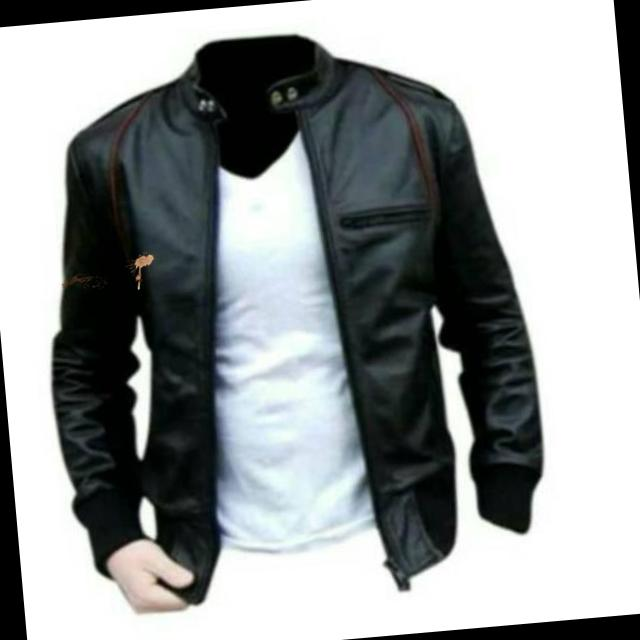stain: (122, 245, 162, 291), (56, 265, 112, 294)
